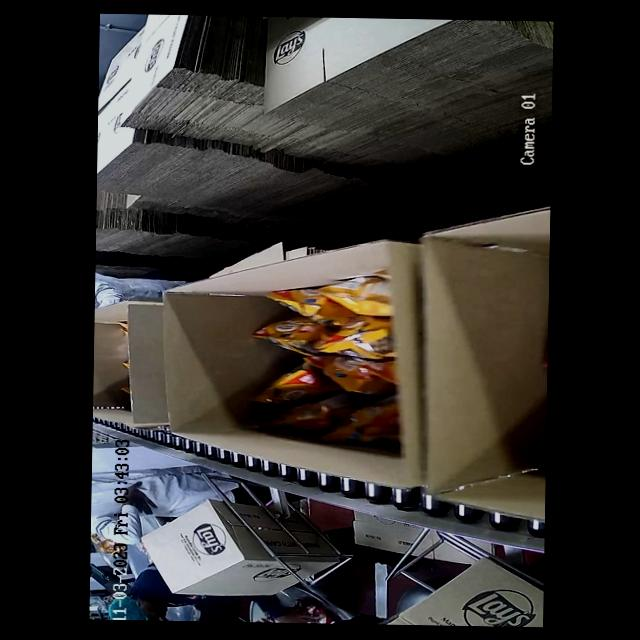cheese: (252, 281, 389, 430)
